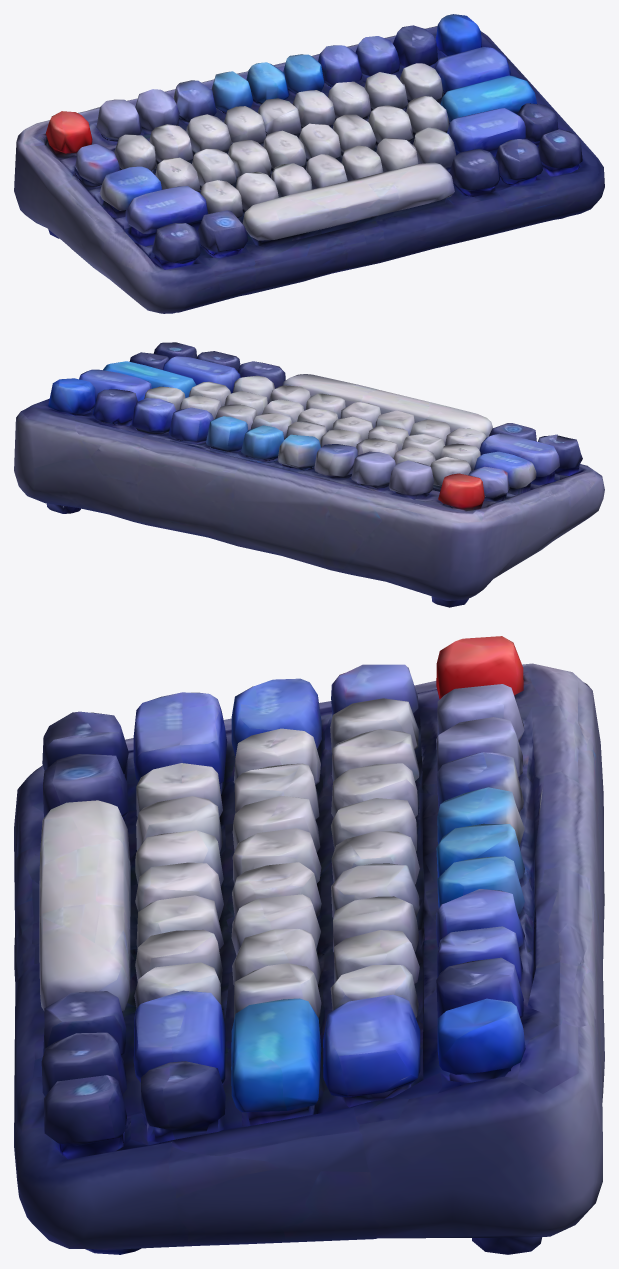
Rendered from blue_keyboard.glb.
The picture shows the model from 3 angles, top to bottom: view 1: azimuth 30°, elevation 25°; view 2: azimuth 150°, elevation 25°; view 3: azimuth 270°, elevation 25°; orthographic projection. The views are drawn at different scales.
Parts seen in each view (by area): view 1: tripo_node_da3024e8-5cd0-4e08-8535-0604e195ca81; view 2: tripo_node_da3024e8-5cd0-4e08-8535-0604e195ca81; view 3: tripo_node_da3024e8-5cd0-4e08-8535-0604e195ca81.
Part boxes in pixels (left/top/right/bottom): tripo_node_da3024e8-5cd0-4e08-8535-0604e195ca81: left=14, top=14, right=604, bottom=313; tripo_node_da3024e8-5cd0-4e08-8535-0604e195ca81: left=14, top=342, right=604, bottom=607; tripo_node_da3024e8-5cd0-4e08-8535-0604e195ca81: left=14, top=636, right=604, bottom=1254.
Size of the model in its own units: 0.9792 by 0.241 by 0.554.
1 material, 1 textured.
